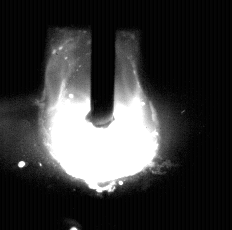arame: (87, 0, 117, 129)
poca: (44, 0, 160, 230)
